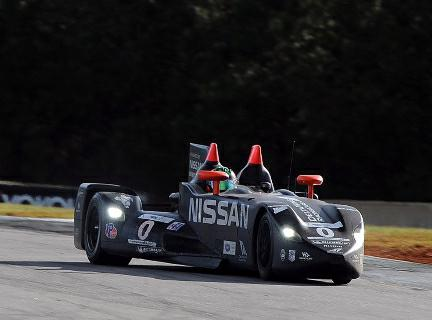日产-DeltaWing: (65, 137, 371, 291)
